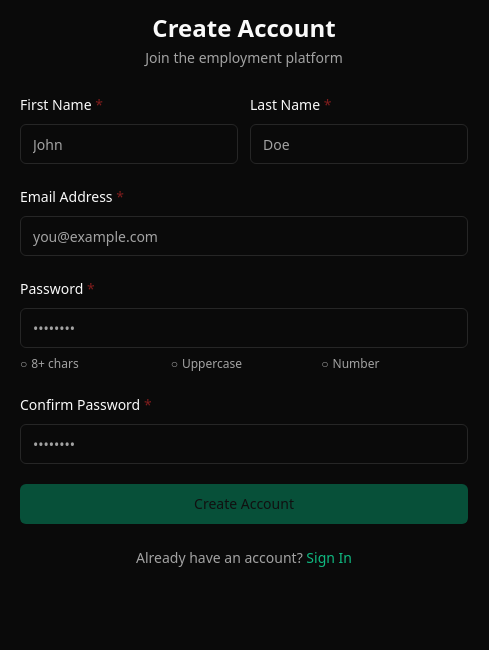
Test: RegisterForm › shows validation error for empty required fields
Type "ValidPass1" into the password field labelled "Password *".
click(244, 328); type("ValidPass1")  # box [20,308,468,348]
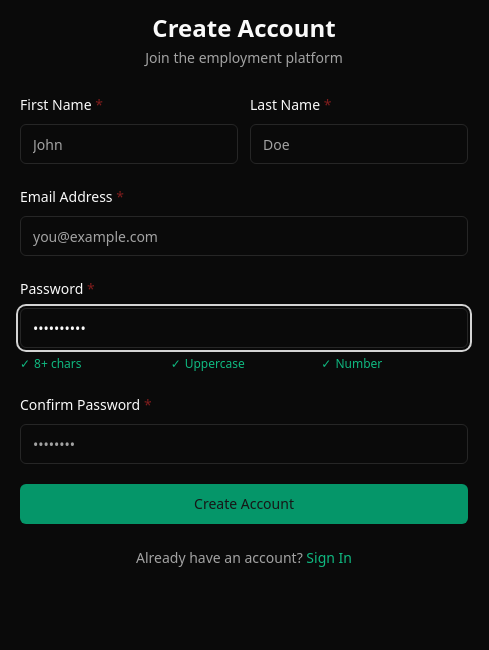
Type "ValidPass1" into the password field labelled "Confirm Password *".
click(244, 444); type("ValidPass1")  # box [20,424,468,464]
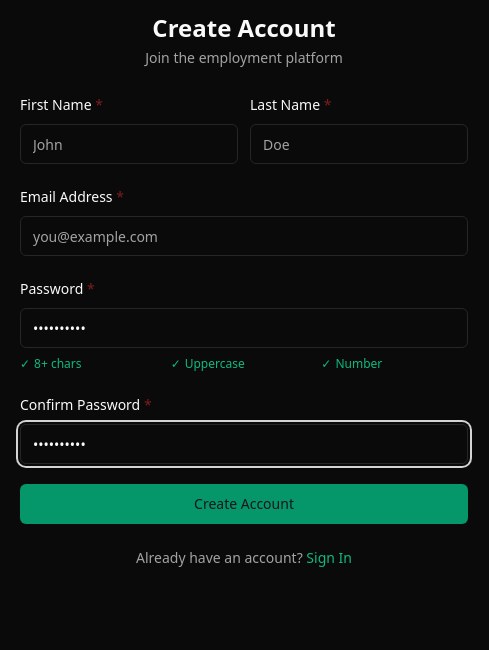
Submit the form
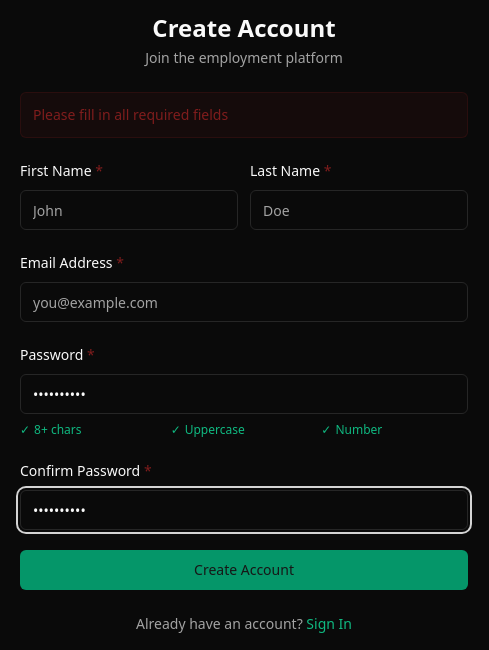
Now the text "Please fill in all required fields" is shown, box [20,92,468,138]
